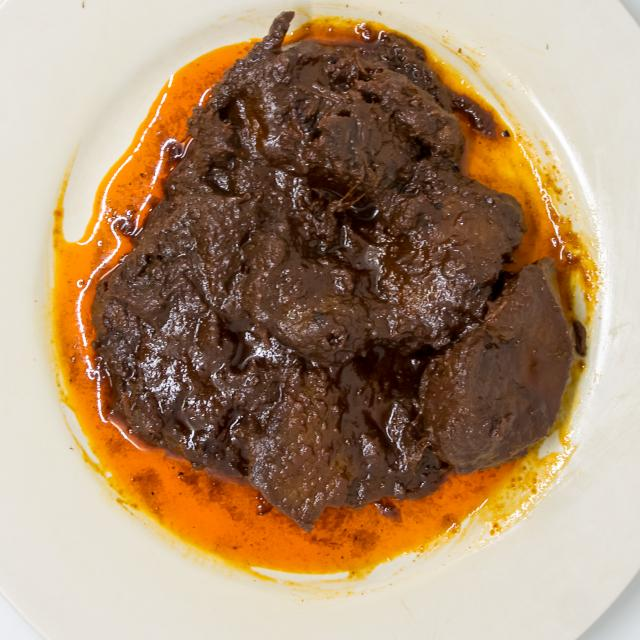Rendang: (93, 6, 593, 529)
